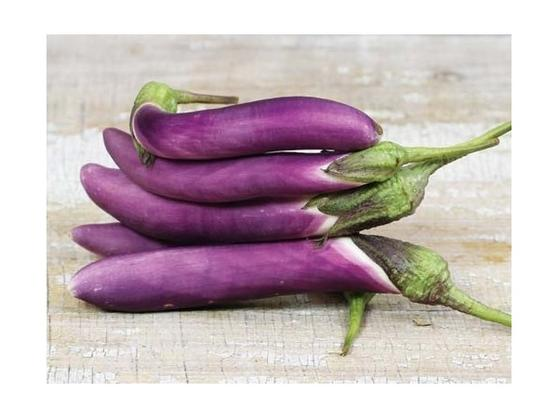eggplant: (72, 237, 474, 313)
